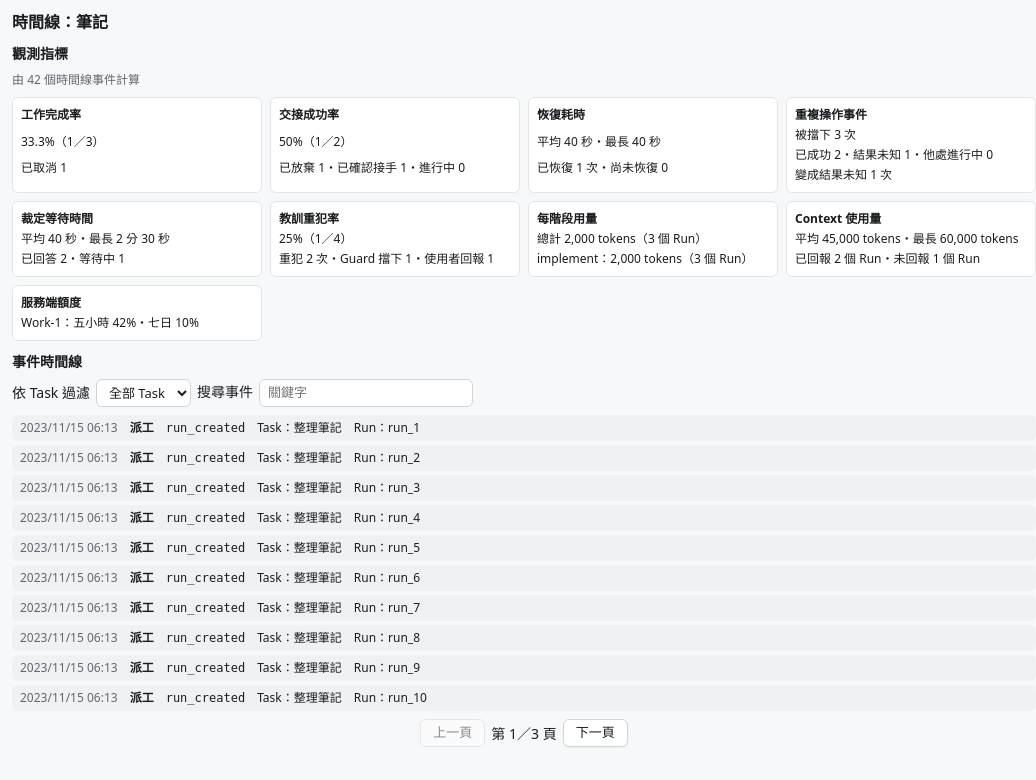
時間線 › 分頁與關鍵字搜尋 › 超過 10 筆時一頁顯示 10 筆，以上一頁／下一頁切換，第一頁與最後一頁的按鈕停用
The image size is (1036, 780).
Check: the list named "事件" is shown, box x1=12 y1=415 x2=1035 y2=711
Check: the text "第 1／3 頁" is shown, box x1=491 y1=723 x2=557 y2=744
Click the button "下一頁": (595, 733) x1=563 y1=719 x2=628 y2=747
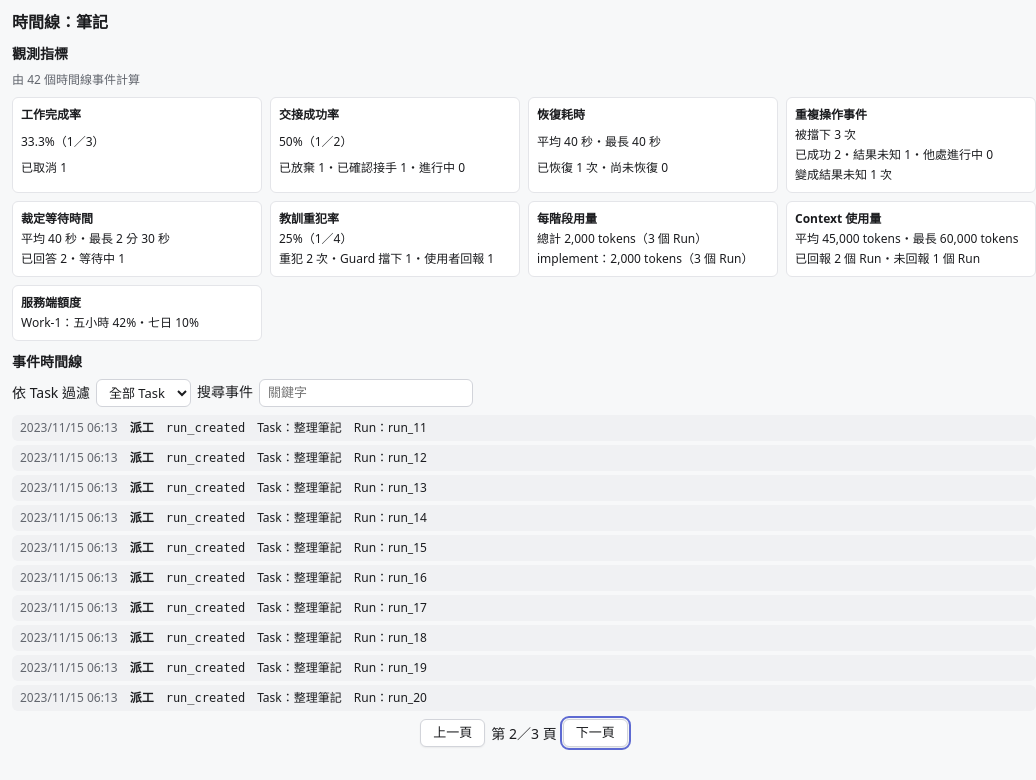
Check: the text "第 2／3 頁" is shown, box x1=491 y1=723 x2=557 y2=744
Check: the button "上一頁" is enabled, box x1=420 y1=719 x2=485 y2=747
Click the button "下一頁": (595, 733) x1=563 y1=719 x2=628 y2=747
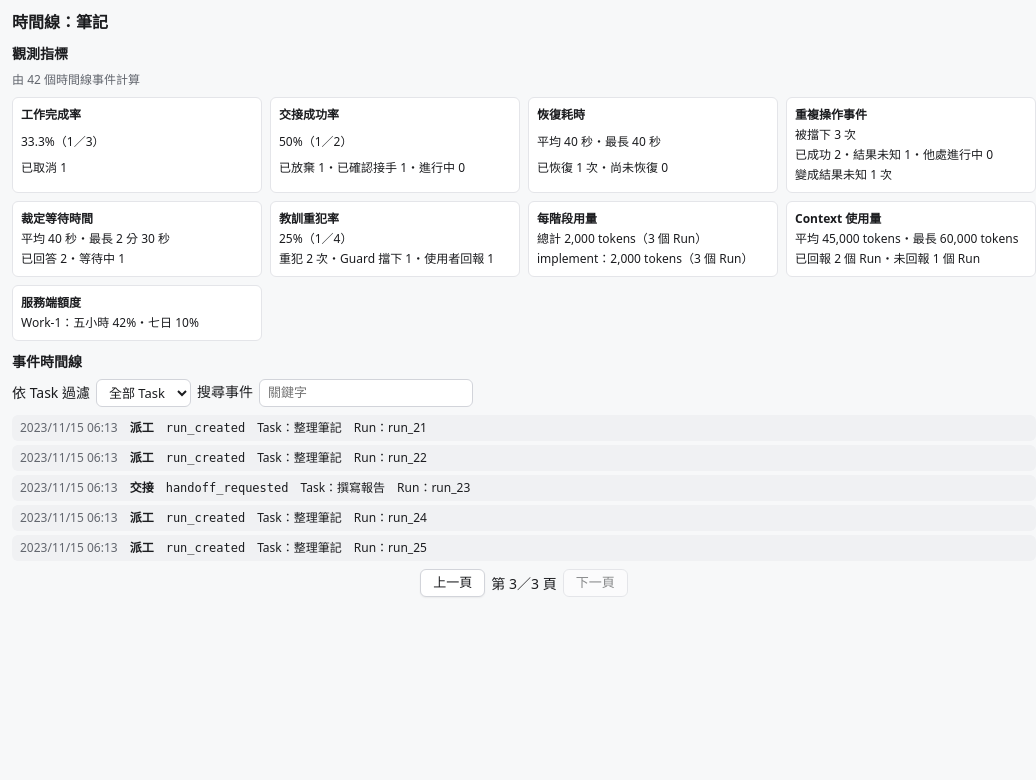
Check: the number of list items is 5, box x1=12 y1=415 x2=1035 y2=441; x1=12 y1=445 x2=1035 y2=471; x1=12 y1=475 x2=1035 y2=501; x1=12 y1=505 x2=1035 y2=531; x1=12 y1=535 x2=1035 y2=561
Check: the text "第 3／3 頁" is shown, box x1=491 y1=573 x2=557 y2=594
Check: the button "下一頁" is disabled, box x1=563 y1=569 x2=628 y2=597
Click the button "上一頁": (453, 583) x1=420 y1=569 x2=485 y2=597
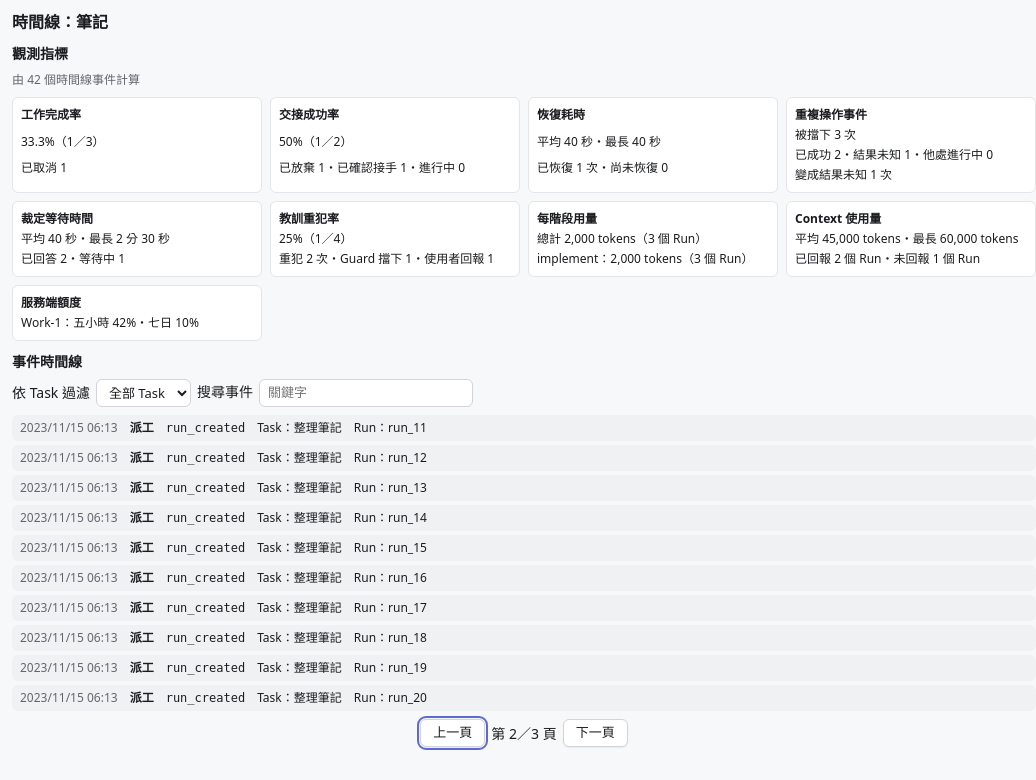
Check: the text "第 2／3 頁" is shown, box x1=491 y1=723 x2=557 y2=744
